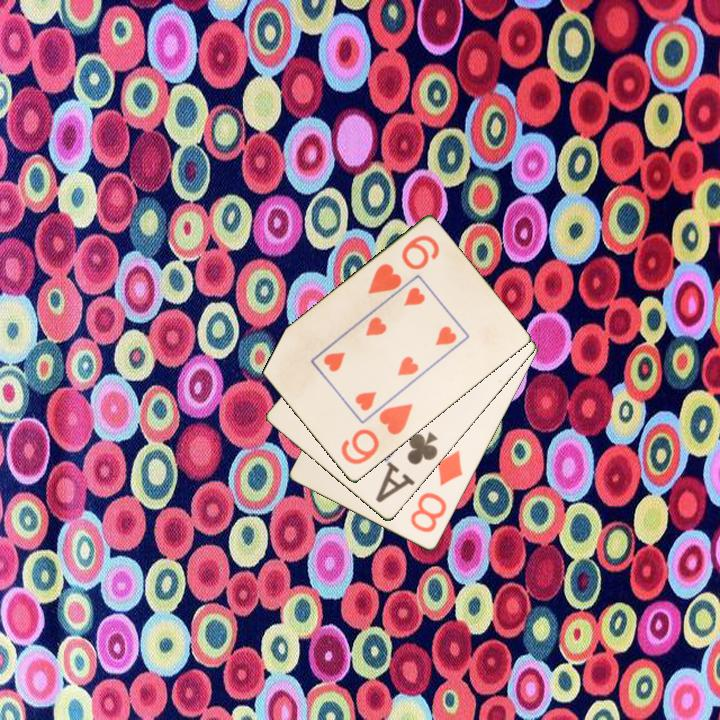6h: (337, 400, 416, 468), (364, 232, 442, 298)
8d: (407, 447, 466, 536)
Ac: (372, 428, 441, 506)
